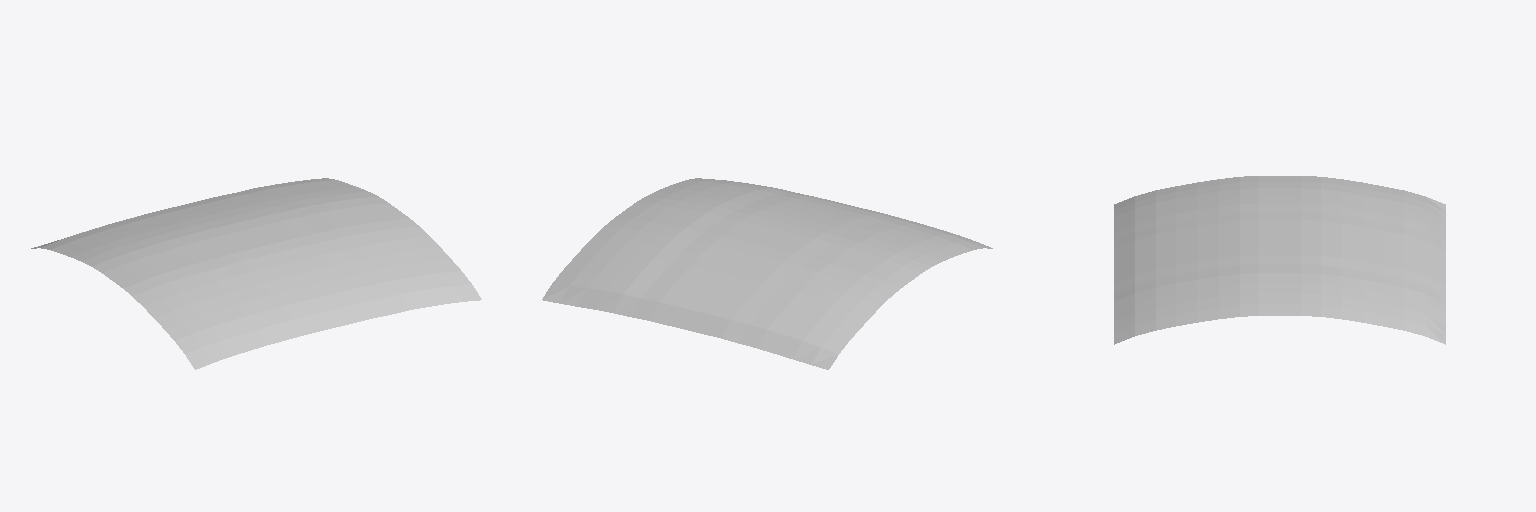
File: SkyPlane.obj
The picture shows the model from 3 angles: view 1: azimuth 30°, elevation 25°; view 2: azimuth 150°, elevation 25°; view 3: azimuth 270°, elevation 25°; orthographic projection.
Parts seen in each view (by area): view 1: Plane; view 2: Plane; view 3: Plane.
Boxes of the visible parts, <box> form: Plane: <box>31,178,481,369</box>; Plane: <box>542,178,992,369</box>; Plane: <box>1114,176,1445,344</box>.
Bounding box in the file's own units: 4 × 0.4955 × 4.